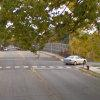Crosswalk: (1, 57, 66, 81)
